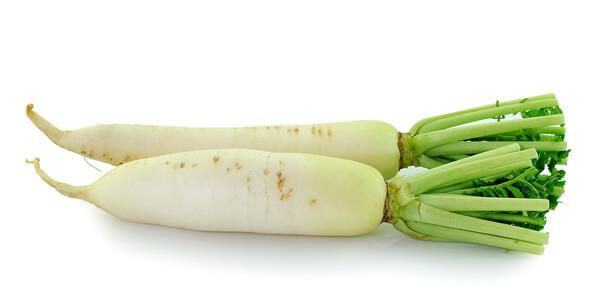radish: (29, 67, 388, 107), (33, 50, 399, 79)
